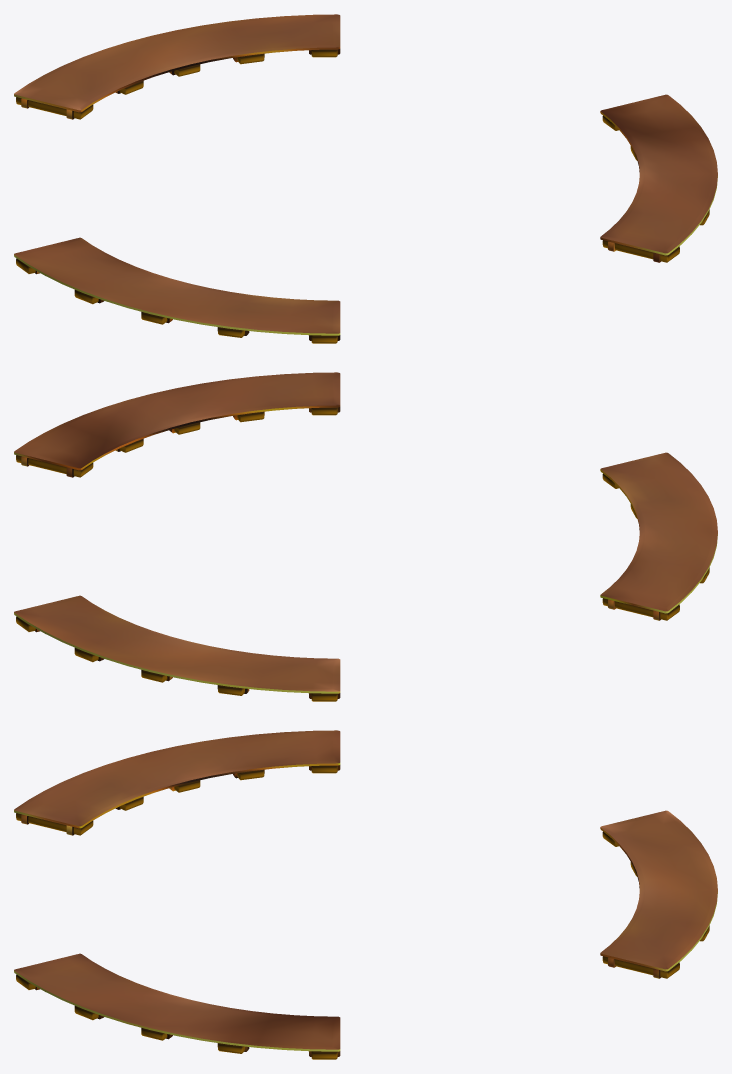
File: ArenaPlatform.gltf
3 renders of one model, top to bottom at view 1: azimuth 30°, elevation 25°; view 2: azimuth 150°, elevation 25°; view 3: azimuth 270°, elevation 25°, orthographic.
Visible parts, largest first — view 1: ArenaPlatformMesh; view 2: ArenaPlatformMesh; view 3: ArenaPlatformMesh.
Part boxes in pixels (box(x1,y1,x2,y2)): ArenaPlatformMesh: box(14, 14, 717, 343); ArenaPlatformMesh: box(14, 372, 717, 701); ArenaPlatformMesh: box(14, 730, 717, 1059).
Size of what is drawn, in the model's own units: 57.98 by 1 by 54.04.
